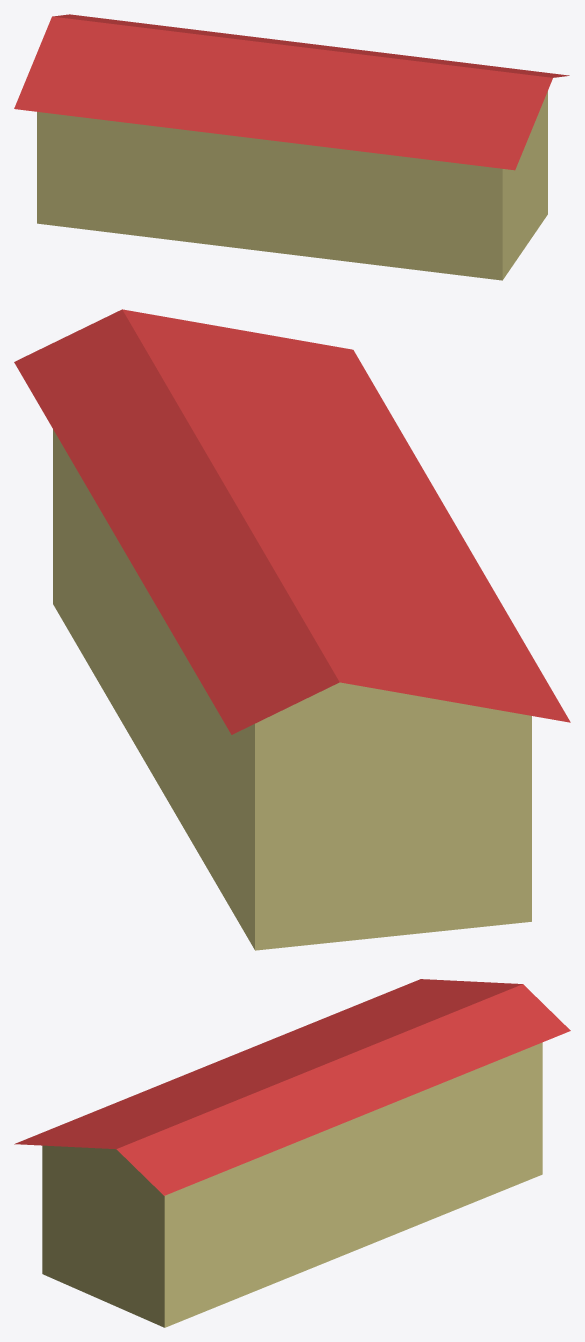
3 views of the same model, one above another, from view 1: azimuth 30°, elevation 25°; view 2: azimuth 150°, elevation 25°; view 3: azimuth 270°, elevation 25° (orthographic). The views are drawn at different scales.
Bounding box in the file's own units: 27.44 × 27.94 × 9.39.
